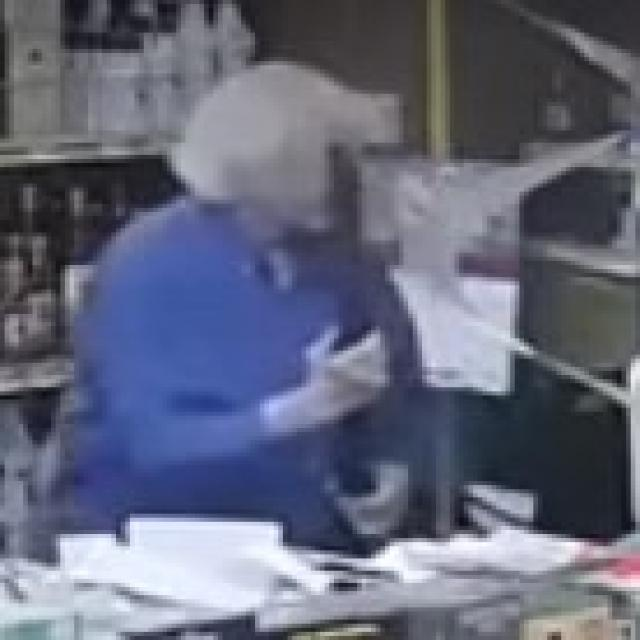weapon: (322, 134, 404, 556)
